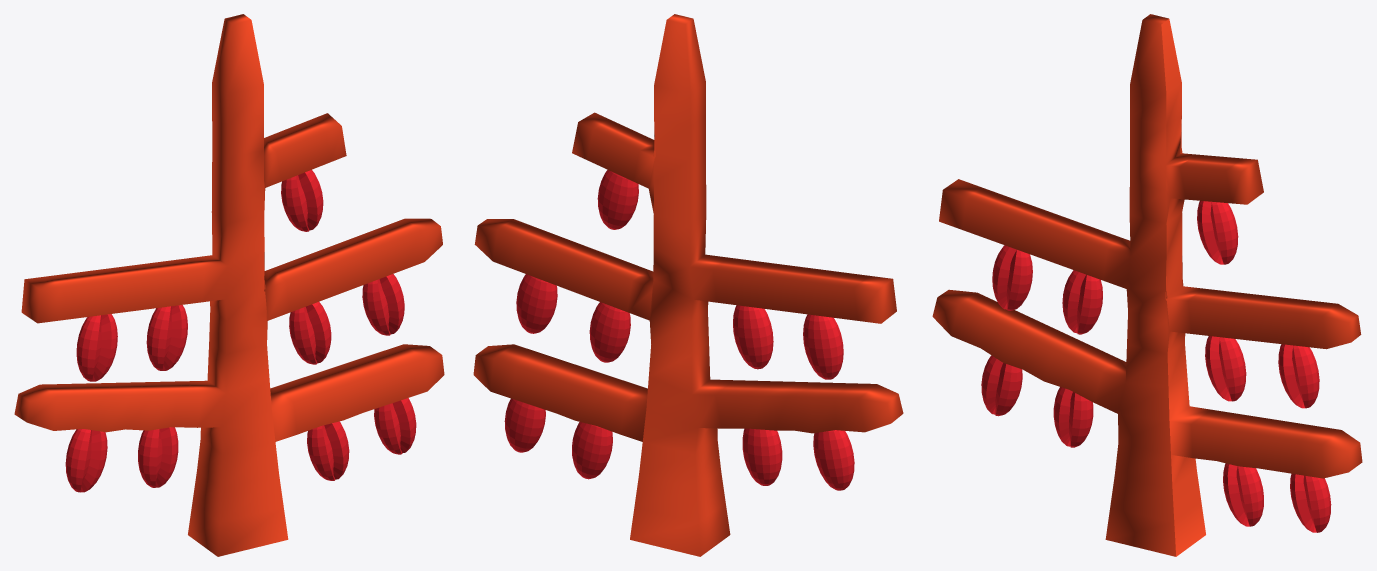
Rendered from coffeeben_tree.fbx.
3 views of the same model, side by side, from view 1: azimuth 30°, elevation 25°; view 2: azimuth 150°, elevation 25°; view 3: azimuth 330°, elevation 25° (orthographic).
Visible parts, largest first — view 1: tree roots, coffeeben.001, coffeeben.002, coffeeben.006, coffeeben.003, coffeeben.007, coffeeben.005, coffeeben.004, coffeeben.008, coffeeben; view 2: tree roots, coffeeben.001, coffeeben.002, coffeeben.006, coffeeben.003, coffeeben.007, coffeeben.004, coffeeben.005, coffeeben.008, coffeeben; view 3: tree roots, coffeeben.003, coffeeben.004, coffeeben.005, coffeeben.001, coffeeben.002, coffeeben.008, coffeeben, coffeeben.006, coffeeben.007.
Part boxes in pixels (x1,y1,x2,y2): tree roots: (14,14,444,556); coffeeben.001: (76,314,117,381); coffeeben.002: (146,305,187,370); coffeeben.006: (65,429,107,492); coffeeben.003: (289,302,331,364); coffeeben.007: (138,427,178,487); coffeeben.005: (281,170,323,231); coffeeben.004: (362,274,404,335); coffeeben.008: (307,421,349,480); coffeeben: (374,398,416,454); tree roots: (473,14,903,556); coffeeben.001: (803,314,843,379); coffeeben.002: (733,305,773,369); coffeeben.006: (813,430,854,490); coffeeben.003: (589,302,630,362); coffeeben.007: (742,428,782,485); coffeeben.004: (516,274,557,333); coffeeben.005: (597,169,638,229); coffeeben.008: (572,422,612,479); coffeeben: (504,398,545,452); tree roots: (932,14,1362,556); coffeeben.003: (1205,336,1246,401); coffeeben.004: (1278,344,1319,408); coffeeben.005: (1197,200,1238,264); coffeeben.001: (992,245,1032,310); coffeeben.002: (1062,270,1102,334); coffeeben.008: (1223,463,1263,526); coffeeben: (1290,473,1331,532); coffeeben.006: (981,355,1022,416); coffeeben.007: (1053,387,1093,447).
Size of the model in its own units: 117 by 138 by 14.56.
